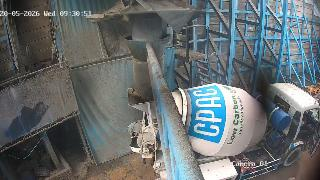cement_mixer_truck: (127, 83, 320, 179)
swing_chute: (125, 36, 169, 96)
